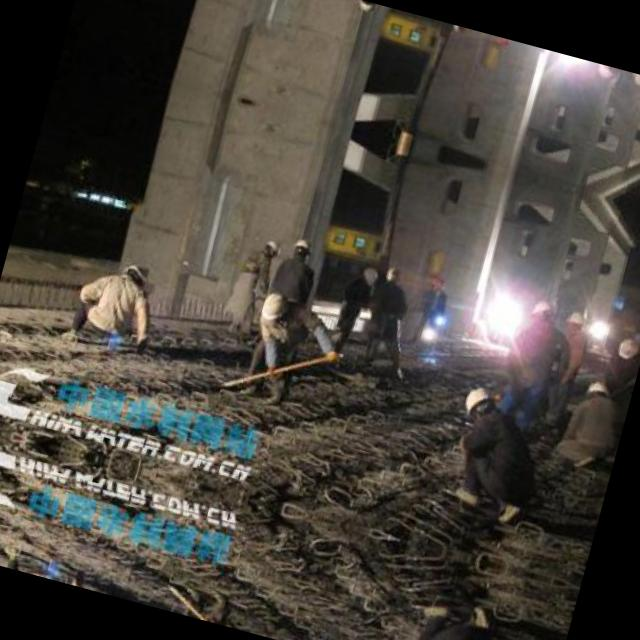helmet: (456, 379, 508, 434), (253, 285, 296, 328), (520, 292, 556, 328), (611, 326, 640, 366), (118, 258, 151, 290), (582, 374, 614, 406), (584, 61, 618, 85), (562, 307, 586, 339), (256, 236, 282, 262), (287, 234, 312, 261), (351, 0, 375, 15), (628, 72, 640, 91)
